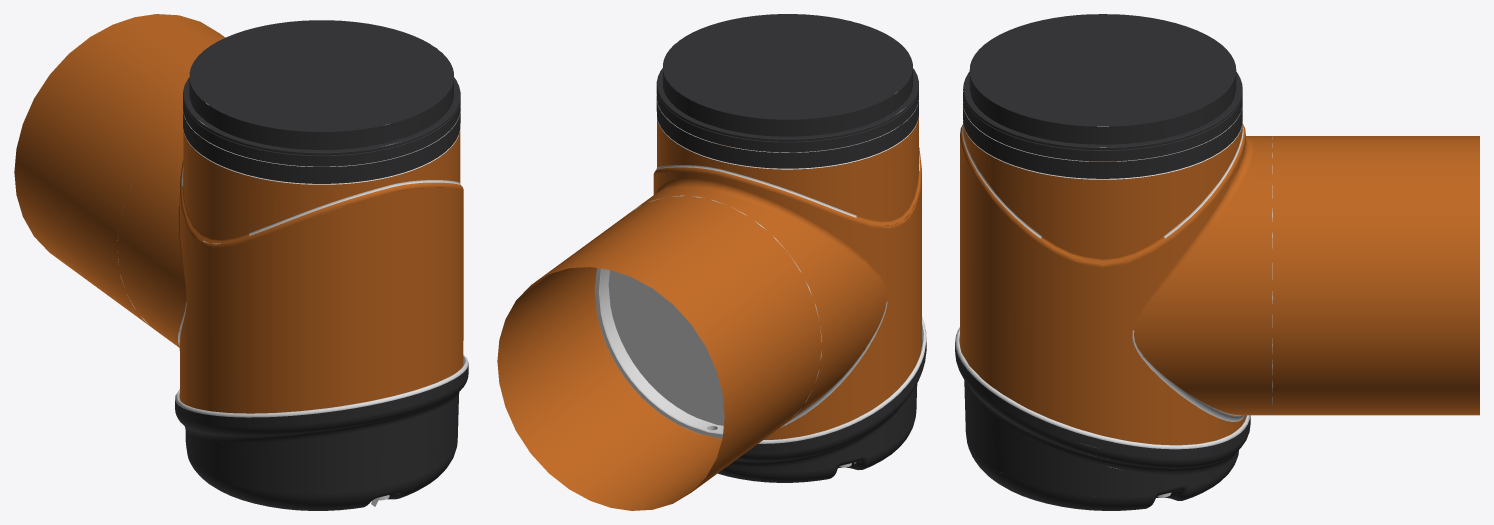
The model's file is wrist1_Link.obj.
3 renders of one model, left to right at view 1: azimuth 30°, elevation 25°; view 2: azimuth 150°, elevation 25°; view 3: azimuth 270°, elevation 25°, orthographic. The views are drawn at different scales.
Parts seen in each view (by area): view 1: obj6, obj15, obj16, obj17, obj18, obj21, obj14, obj3; view 2: obj6, obj16, obj4, obj15, obj17, obj18, obj21, obj14, obj2, obj1; view 3: obj6, obj16, obj15, obj17, obj18, obj21, obj14, obj1.
Boxes of the visible parts, left/top/right/bottom form: obj6: left=14, top=14, right=463, bottom=413; obj15: left=175, top=363, right=468, bottom=510; obj16: left=189, top=20, right=453, bottom=131; obj17: left=183, top=47, right=460, bottom=155; obj18: left=183, top=107, right=460, bottom=183; obj21: left=183, top=95, right=460, bottom=166; obj14: left=175, top=355, right=468, bottom=417; obj3: left=249, top=180, right=460, bottom=235; obj6: left=497, top=117, right=921, bottom=510; obj16: left=663, top=14, right=912, bottom=119; obj4: left=594, top=195, right=821, bottom=438; obj15: left=718, top=330, right=926, bottom=482; obj17: left=656, top=21, right=918, bottom=141; obj18: left=656, top=95, right=918, bottom=168; obj21: left=656, top=84, right=918, bottom=152; obj14: left=758, top=317, right=926, bottom=443; obj2: left=656, top=165, right=856, bottom=217; obj1: left=780, top=301, right=887, bottom=427; obj6: left=960, top=121, right=1479, bottom=445; obj16: left=970, top=14, right=1236, bottom=126; obj15: left=955, top=343, right=1250, bottom=510; obj17: left=963, top=14, right=1242, bottom=149; obj18: left=963, top=103, right=1242, bottom=178; obj21: left=963, top=88, right=1242, bottom=161; obj14: left=955, top=327, right=1250, bottom=449; obj1: left=1132, top=330, right=1244, bottom=421.
Size of the model in its own units: 92 by 135 by 163.
